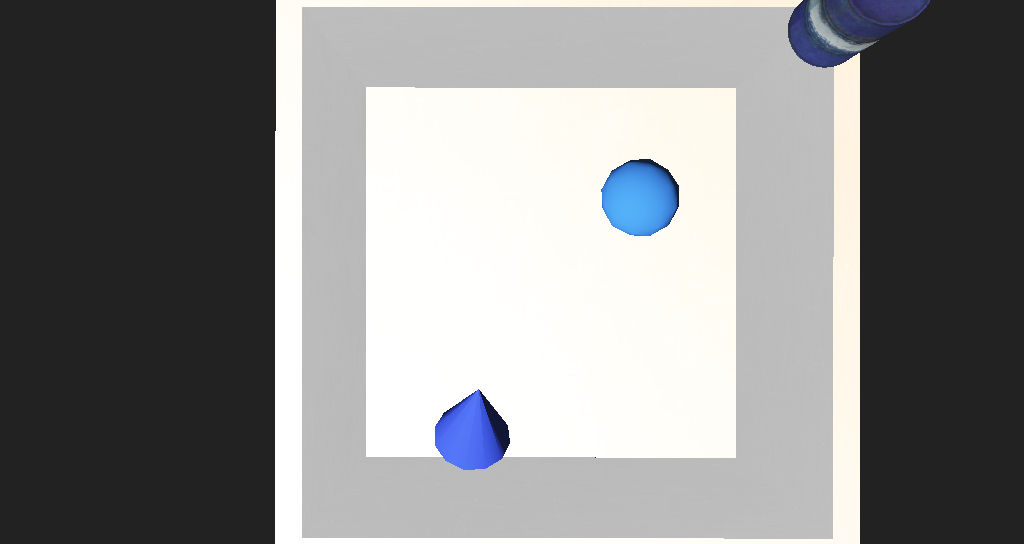cone: (677, 98, 765, 160)
cylinder: (397, 313, 478, 394)
sphere: (549, 200, 610, 248)
